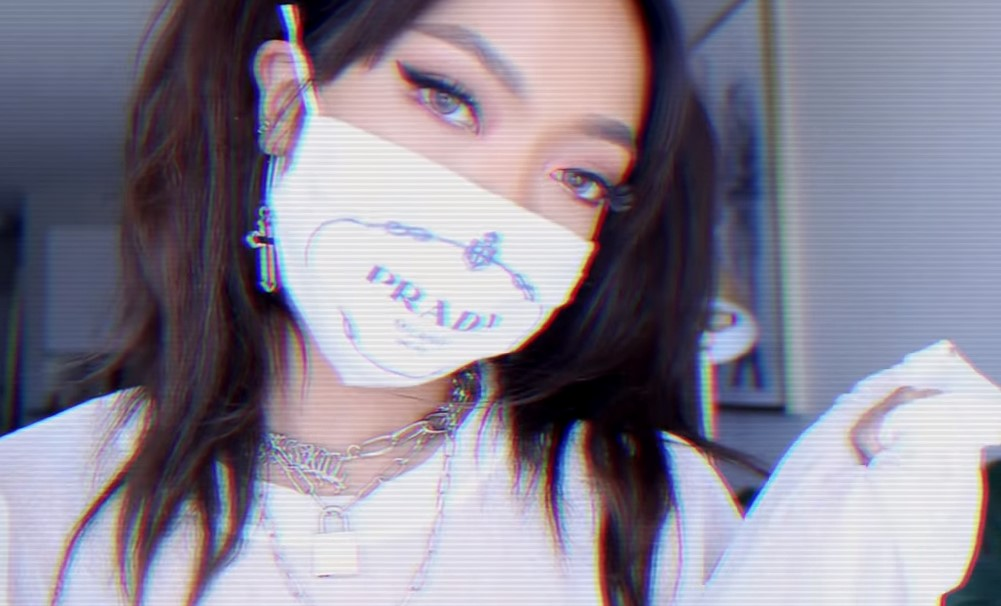face_with_mask: (247, 0, 670, 395)
